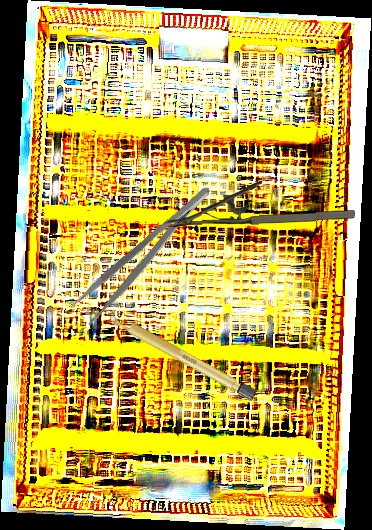Dressing Forceps: (67, 182, 225, 328)
Needle Holder: (163, 179, 355, 228)
Scalpel Handle: (105, 309, 258, 402)
